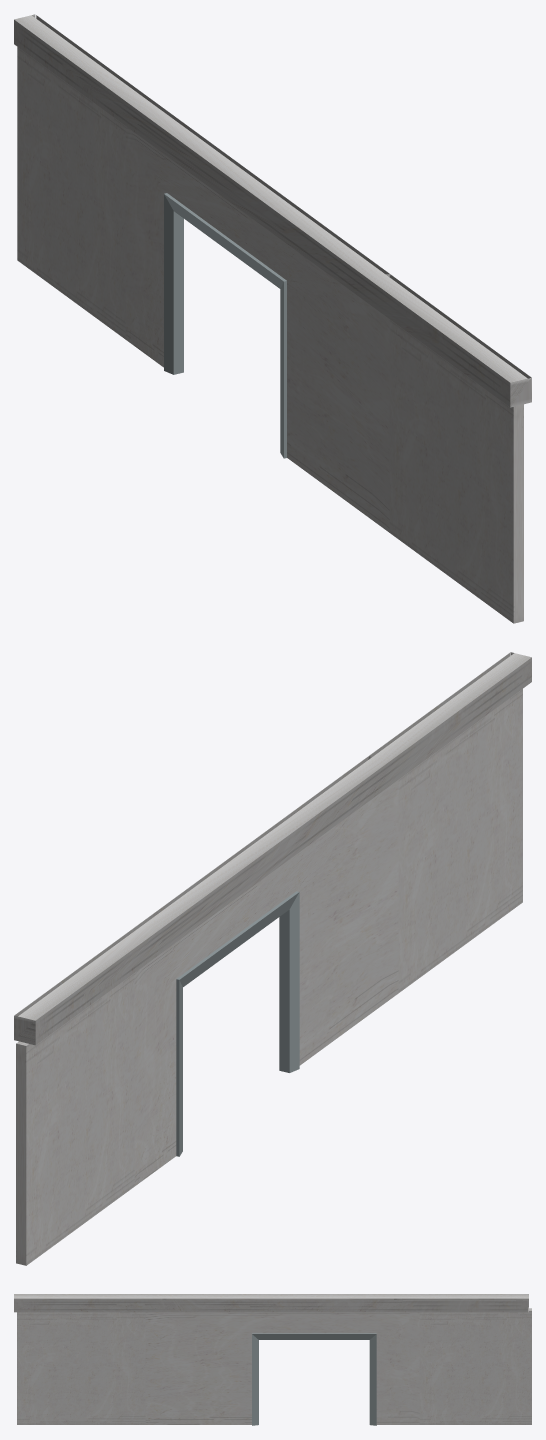
File: school ark.fbx
The picture shows the model from 3 angles, top to bottom: view 1: azimuth 30°, elevation 25°; view 2: azimuth 150°, elevation 25°; view 3: azimuth 270°, elevation 25°; orthographic projection. The views are drawn at different scales.
Parts seen in each view (by area): view 1: Cube.178, Cube.168, Cube.169, Cube.176, Cube.177, classroom walls.112, Cube.174, Cube.170, Cube.175, classroom walls.113, classroom walls.111, Cube.173 (+2 smaller); view 2: Cube.169, Cube.168, Cube.178, Cube.176, Cube.177, classroom walls.112, Cube.170, Cube.174, Cube.175, classroom walls.113, classroom walls.111, Cube.171 (+2 smaller); view 3: Cube.168, Cube.178, Cube.176, Cube.169, Cube.177, Cube.175, classroom walls.112, Cube.170, Cube.174, classroom walls.113, classroom walls.111, Cube.172 (+2 smaller).
Part boxes in pixels (<box>): Cube.178: <box>393,322,523,623</box>; Cube.168: <box>389,319,513,623</box>; Cube.169: <box>17,47,125,339</box>; Cube.176: <box>287,290,389,532</box>; Cube.177: <box>20,49,125,338</box>; classroom walls.112: <box>141,103,390,303</box>; Cube.174: <box>287,302,389,532</box>; Cube.170: <box>125,126,164,367</box>; Cube.175: <box>131,130,376,309</box>; classroom walls.113: <box>363,274,531,407</box>; classroom walls.111: <box>14,14,157,141</box>; Cube.173: <box>164,194,183,374</box>; Cube.169: <box>16,1043,134,1265</box>; Cube.168: <box>398,777,522,992</box>; Cube.178: <box>402,689,522,901</box>; Cube.176: <box>299,780,398,992</box>; Cube.177: <box>16,973,134,1185</box>; classroom walls.112: <box>135,756,390,946</box>; Cube.170: <box>134,969,176,1186</box>; Cube.174: <box>299,915,398,1065</box>; Cube.175: <box>140,789,385,984</box>; classroom walls.113: <box>369,652,531,784</box>; classroom walls.111: <box>14,927,169,1045</box>; Cube.171: <box>279,892,299,1072</box>; Cube.168: <box>17,1312,145,1424</box>; Cube.178: <box>17,1312,143,1424</box>; Cube.176: <box>145,1312,251,1424</box>; Cube.169: <box>420,1311,531,1424</box>; Cube.177: <box>419,1308,531,1424</box>; Cube.175: <box>151,1312,416,1337</box>; classroom walls.112: <box>160,1294,402,1312</box>; Cube.170: <box>376,1312,419,1424</box>; Cube.174: <box>146,1344,251,1424</box>; classroom walls.113: <box>14,1294,166,1312</box>; classroom walls.111: <box>394,1294,528,1312</box>; Cube.172: <box>252,1333,376,1339</box>.
Bounding box in the file's own units: 0.495 × 5.38 × 19.9.
Materials: 2 (1 with a texture image).
